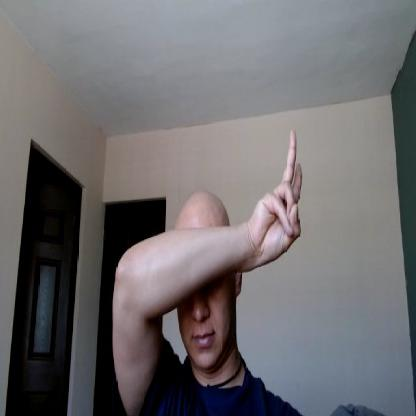V: (253, 126, 303, 264)
